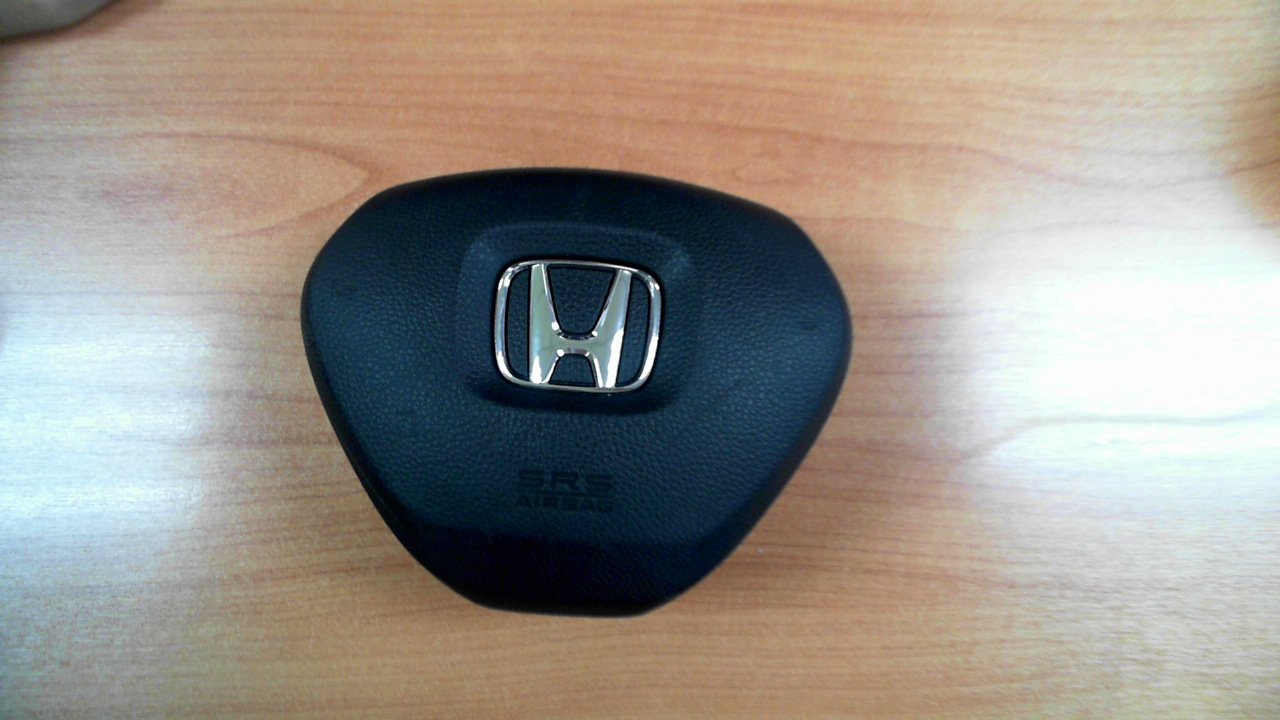Airbag: (300, 167, 853, 618)
Honda: (494, 259, 662, 393)
